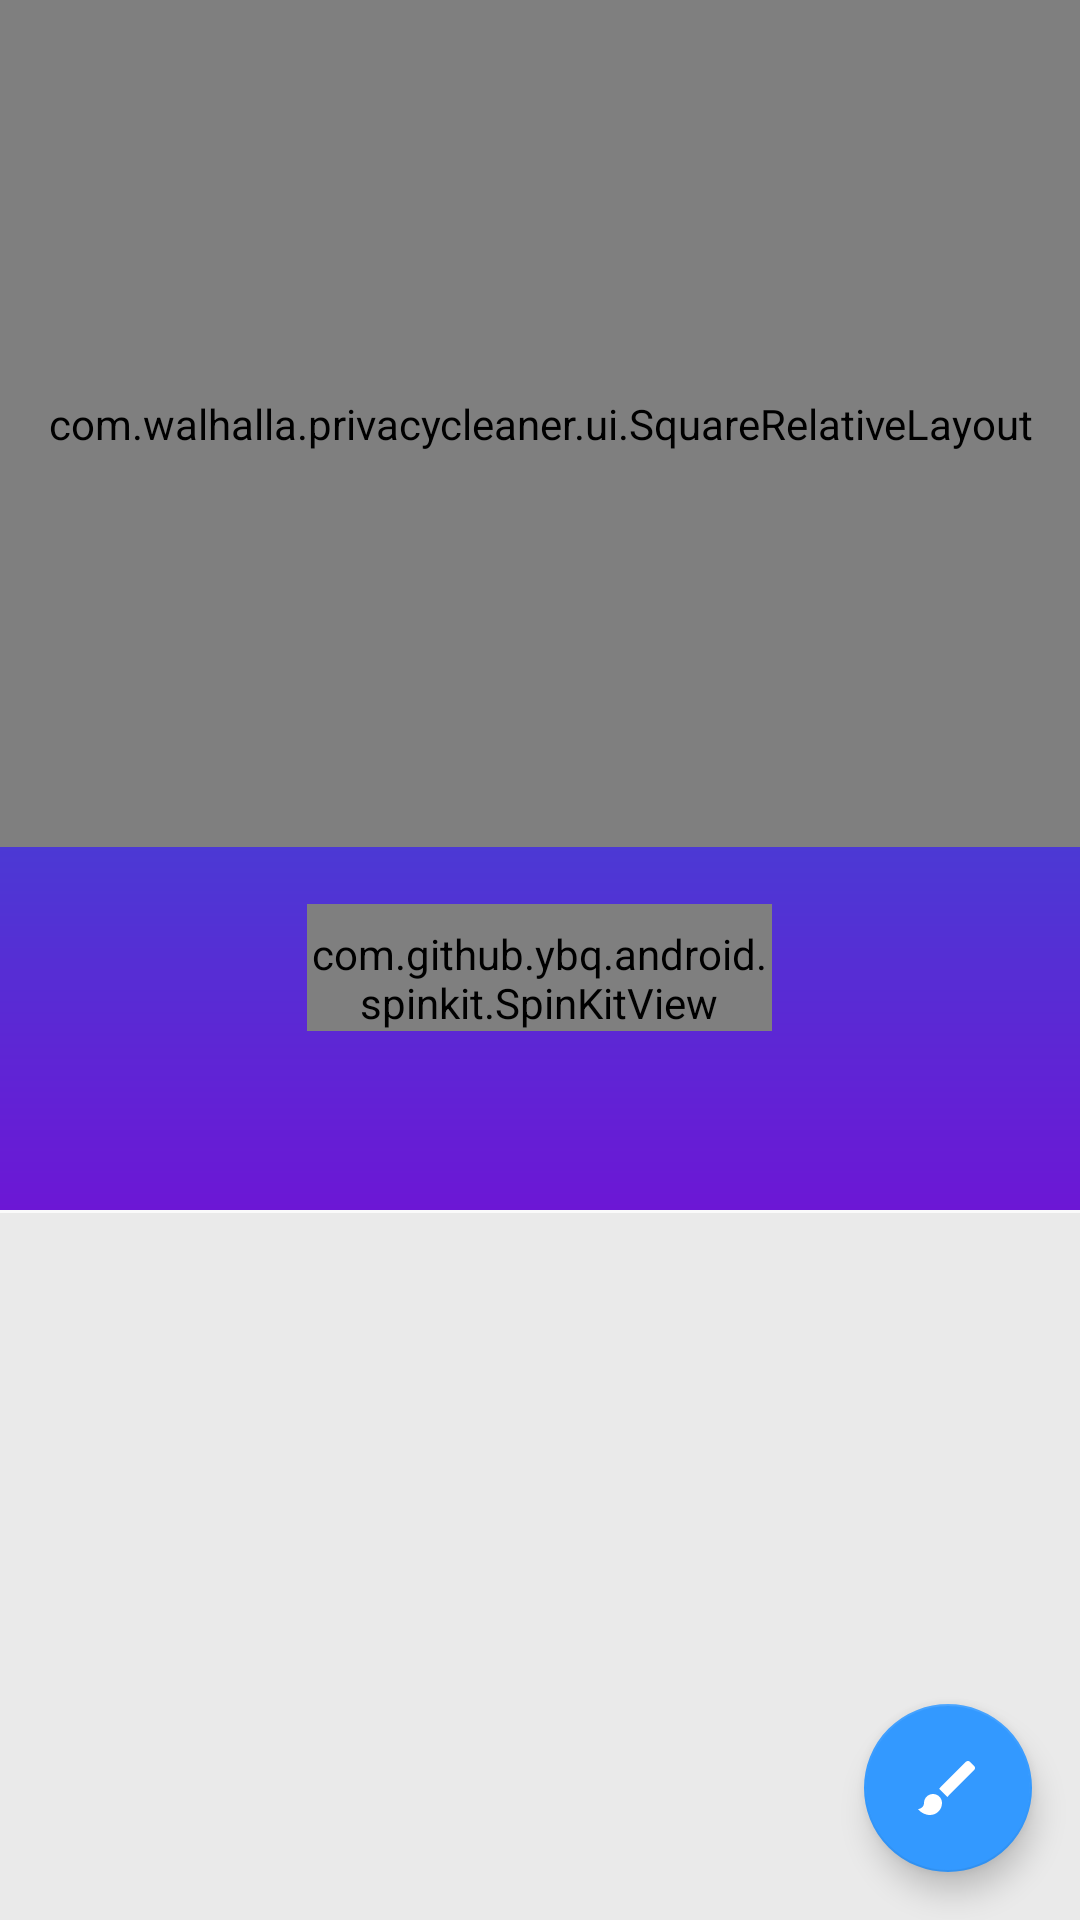

Icon click points for this 1080 × 1920 phone screenshot, format point (x, y):
brush: point (948, 1788)
